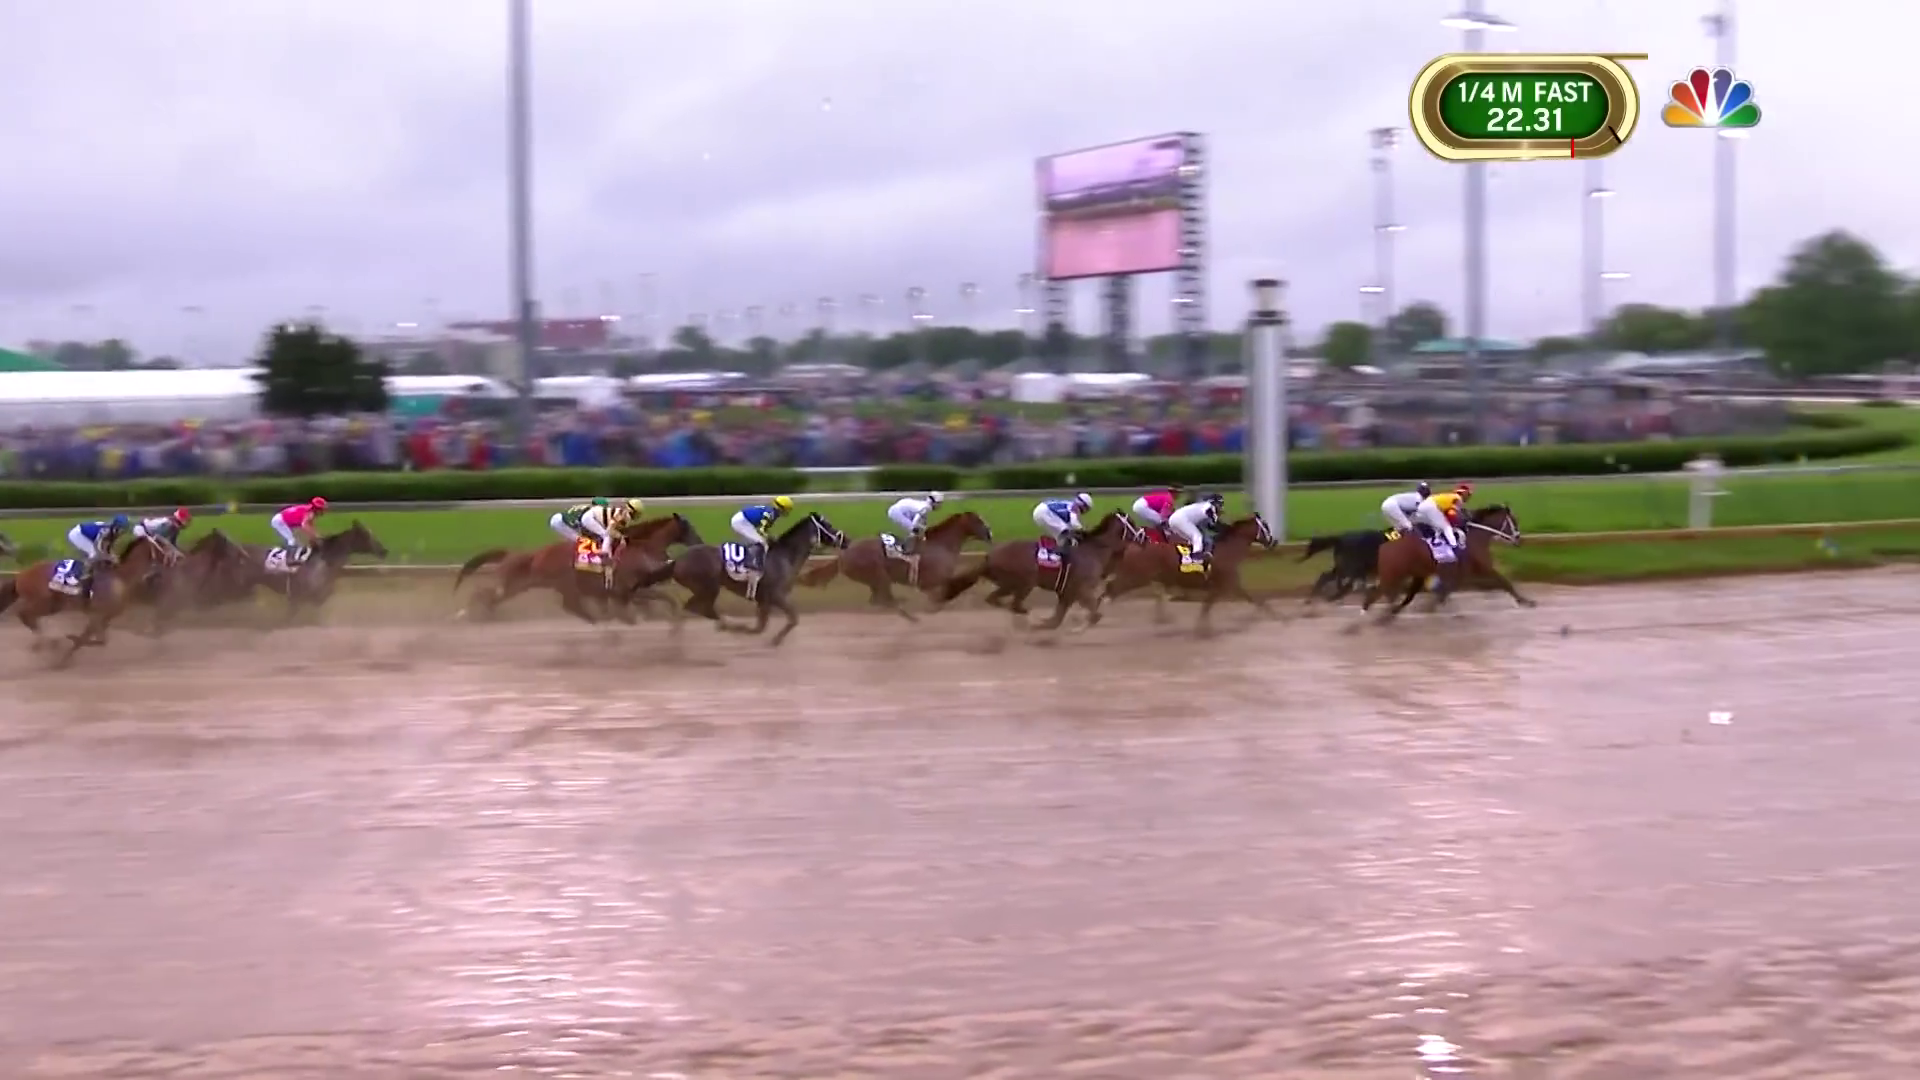jockey: (725, 493, 793, 564), (123, 506, 196, 571), (69, 512, 132, 583), (272, 495, 330, 566), (582, 495, 644, 560), (1416, 487, 1477, 549), (1035, 495, 1091, 560), (1168, 497, 1221, 566), (890, 491, 944, 553), (1383, 491, 1437, 541), (1133, 487, 1178, 541)
